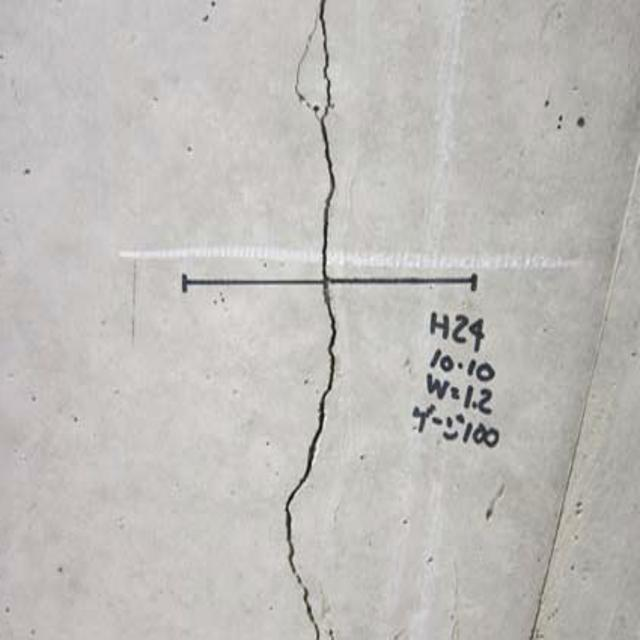crack: (273, 0, 358, 640)
